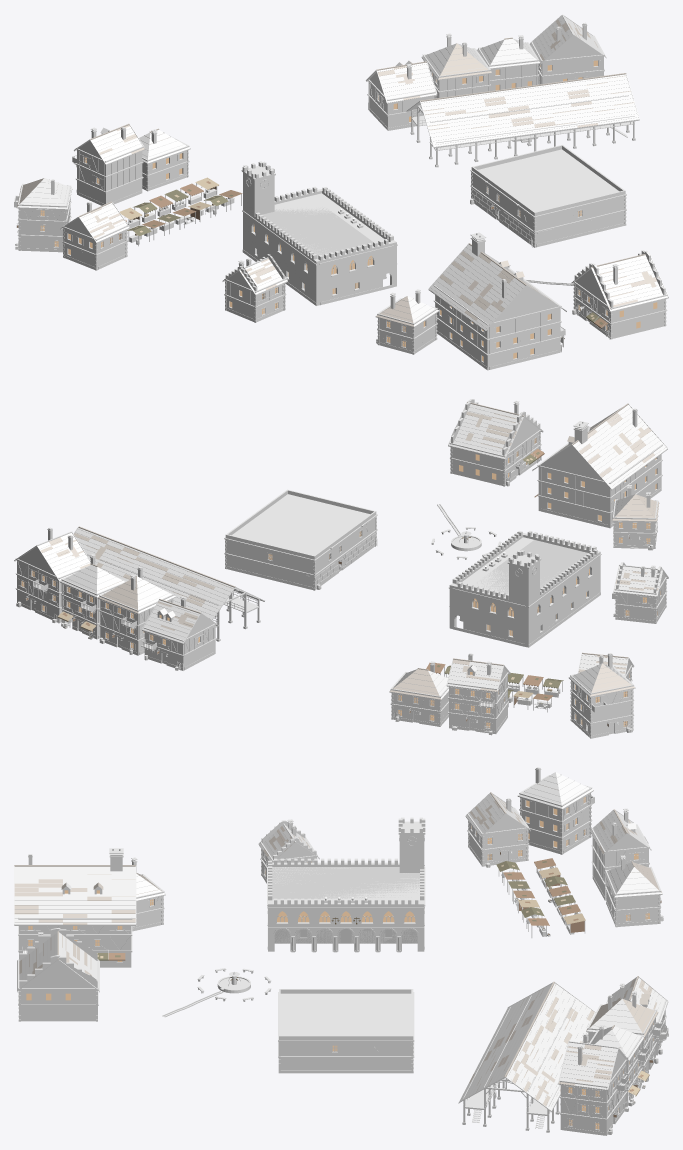
Rendered from bld_mercado.glb.
3 renders of one model, top to bottom at view 1: azimuth 30°, elevation 25°; view 2: azimuth 150°, elevation 25°; view 3: azimuth 270°, elevation 25°, orthographic. The views are drawn at different scales.
Parts seen in each view (by area): view 1: GranSubasta_Roof, TesoreriaMuralla_Body, Posada_Body, Banco_Roof, Posada_Roof, Banco_Body, CasaRegistro_Body, MER_Casa_03_Body, TesoreriaMuralla_InteriorVolume, CasaRegistro_Roof, GranSubasta_Body, MER_Casa_09_Body (+19 smaller); view 2: TesoreriaMuralla_Body, Banco_Roof, Posada_Body, GranSubasta_Roof, Banco_Body, Posada_Roof, CasaRegistro_Body, MER_Casa_08_Body, CasaRegistro_Roof, MER_Casa_03_Body, MER_Casa_07_Body, MER_Casa_04_Body (+19 smaller); view 3: TesoreriaMuralla_Body, GranSubasta_Roof, Posada_Roof, Banco_Roof, TesoreriaMuralla_InteriorVolume, CasaRegistro_Body, Banco_Body, MER_Casa_07_Body, MER_Casa_08_Body, Posada_Body, MER_Casa_07_Roof, MER_Casa_10_Body (+18 smaller).
Part boxes in pixels (x1,y1,x2,y2): GranSubasta_Roof: [406, 73, 639, 148]; TesoreriaMuralla_Body: [241, 161, 397, 305]; Posada_Body: [433, 267, 565, 370]; Banco_Roof: [471, 145, 625, 216]; Posada_Roof: [428, 232, 566, 331]; Banco_Body: [470, 170, 626, 247]; CasaRegistro_Body: [573, 250, 667, 339]; MER_Casa_03_Body: [72, 141, 143, 205]; TesoreriaMuralla_InteriorVolume: [262, 207, 372, 258]; CasaRegistro_Roof: [571, 253, 668, 312]; GranSubasta_Body: [410, 95, 635, 167]; MER_Casa_09_Body: [224, 254, 286, 322]; TesoreriaMuralla_Body: [449, 531, 601, 647]; Banco_Roof: [225, 489, 376, 559]; Posada_Body: [537, 443, 662, 528]; GranSubasta_Roof: [73, 526, 264, 620]; Banco_Body: [224, 514, 377, 590]; Posada_Roof: [532, 403, 667, 490]; CasaRegistro_Body: [449, 399, 541, 486]; MER_Casa_08_Body: [570, 666, 634, 738]; CasaRegistro_Roof: [448, 400, 543, 459]; MER_Casa_03_Body: [448, 668, 509, 733]; MER_Casa_07_Body: [15, 546, 87, 623]; MER_Casa_04_Body: [141, 614, 216, 670]; TesoreriaMuralla_Body: [267, 817, 425, 952]; GranSubasta_Roof: [458, 981, 595, 1112]; Posada_Roof: [14, 848, 136, 925]; Banco_Roof: [279, 989, 413, 1039]; TesoreriaMuralla_InteriorVolume: [272, 867, 419, 943]; CasaRegistro_Body: [18, 928, 98, 1021]; Banco_Body: [278, 992, 414, 1073]; MER_Casa_07_Body: [559, 1051, 628, 1135]; MER_Casa_08_Body: [519, 775, 594, 854]; Posada_Body: [18, 917, 132, 967]; MER_Casa_07_Roof: [558, 1033, 628, 1090]; MER_Casa_10_Body: [467, 807, 529, 866].
Size of what is drawn, in the model's own units: 134 by 21.86 by 117.
Materials: 16 (13 with a texture image).
